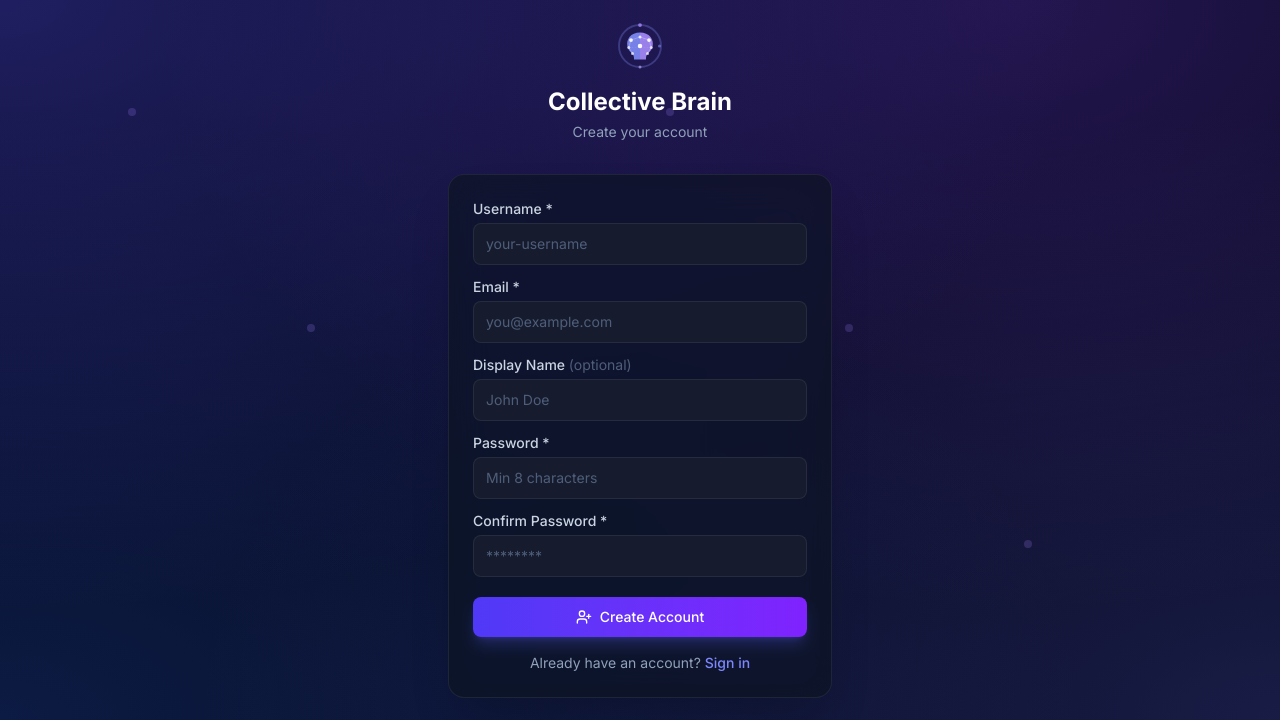
Test case: RegisterPage › shows password mismatch error
Type "newuser" into the field with placeholder "your-username" at point(640, 244), box [473,223,807,265]
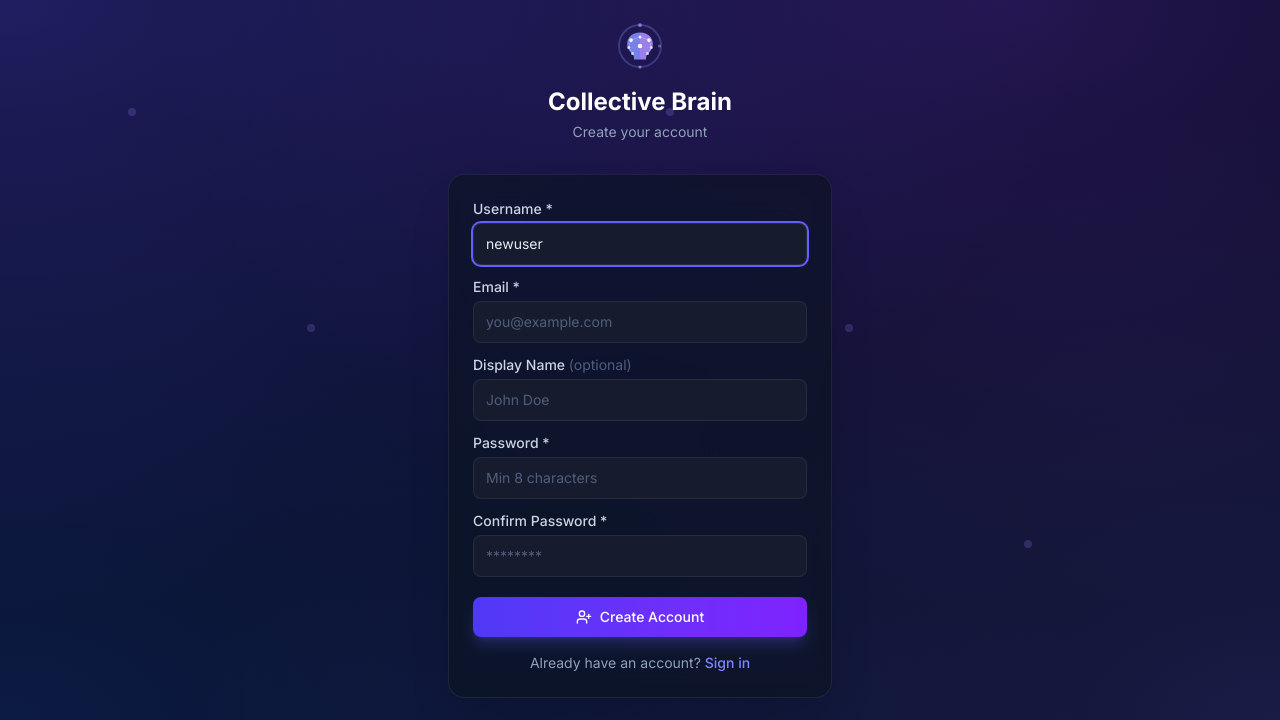
Type "new@test.com" into the field with placeholder "you@example.com" at point(640, 322), box [473,301,807,343]
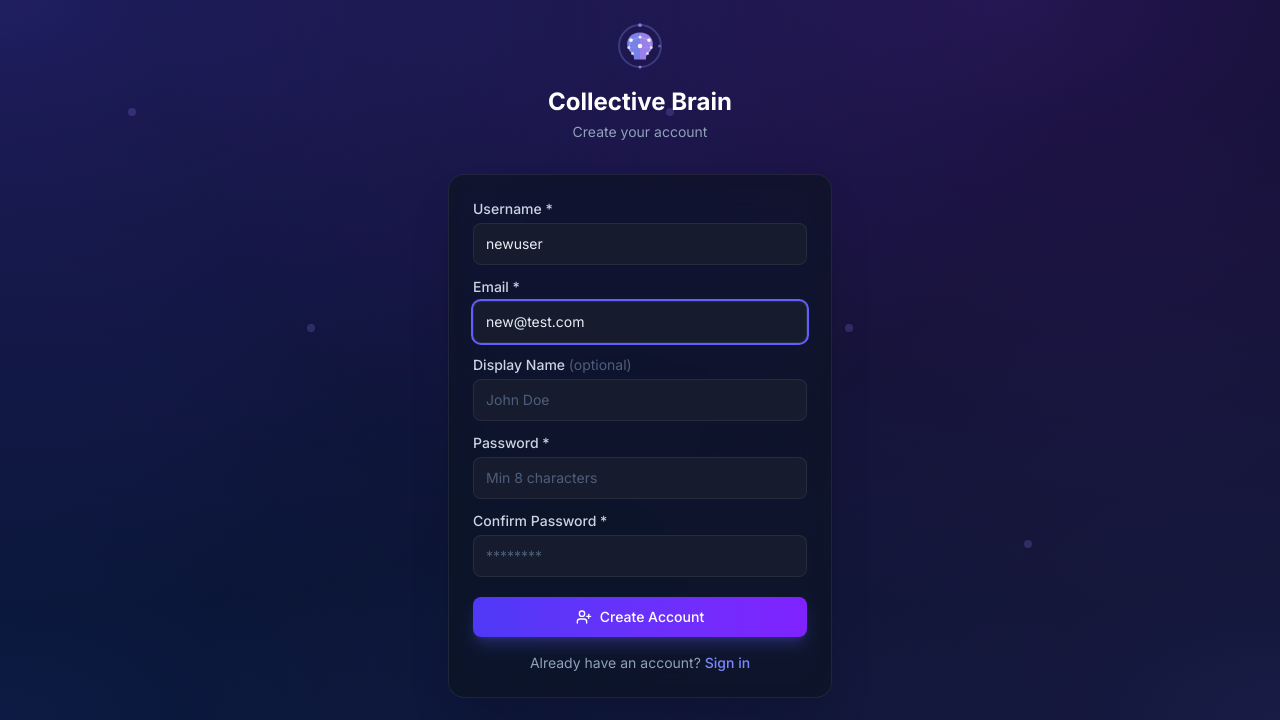
Type "password123" into the password field with placeholder "Min 8 characters" at point(640, 478), box [473,457,807,499]
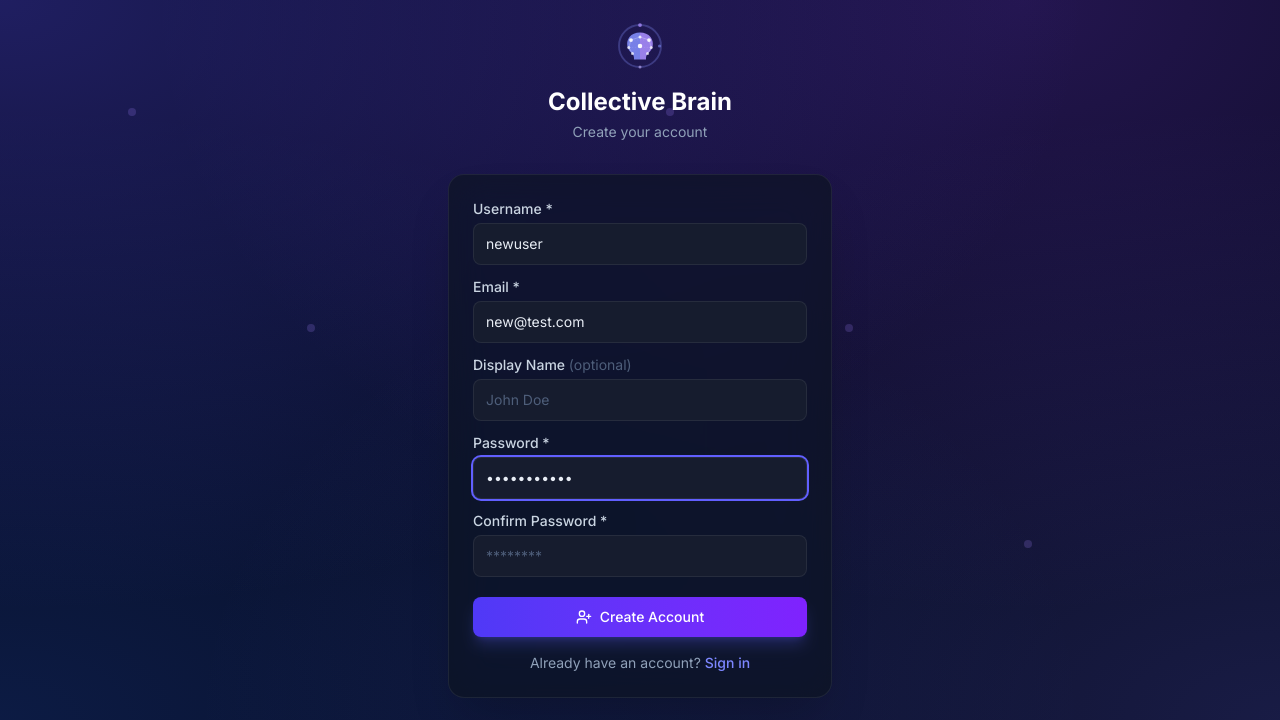
Type "different123" into the password field with placeholder "********" at point(640, 556), box [473,535,807,577]
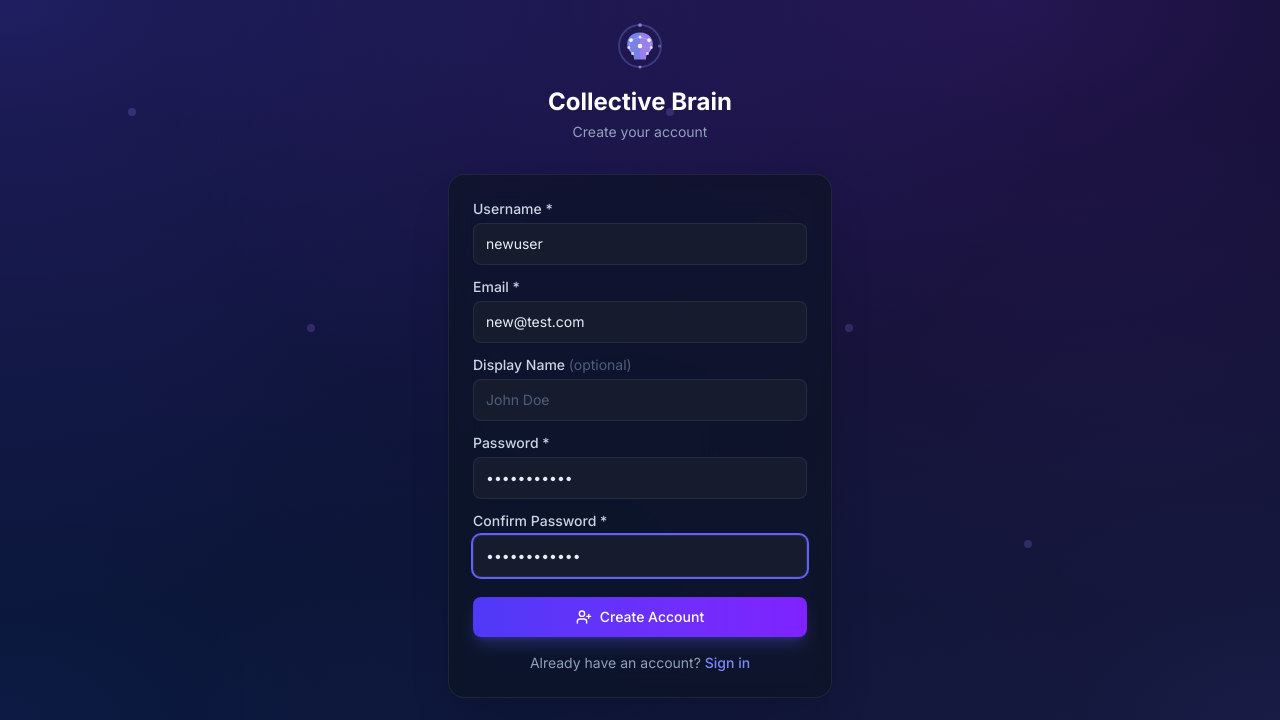
Click the button "Create Account" at point(640, 617), box [473,597,807,637]
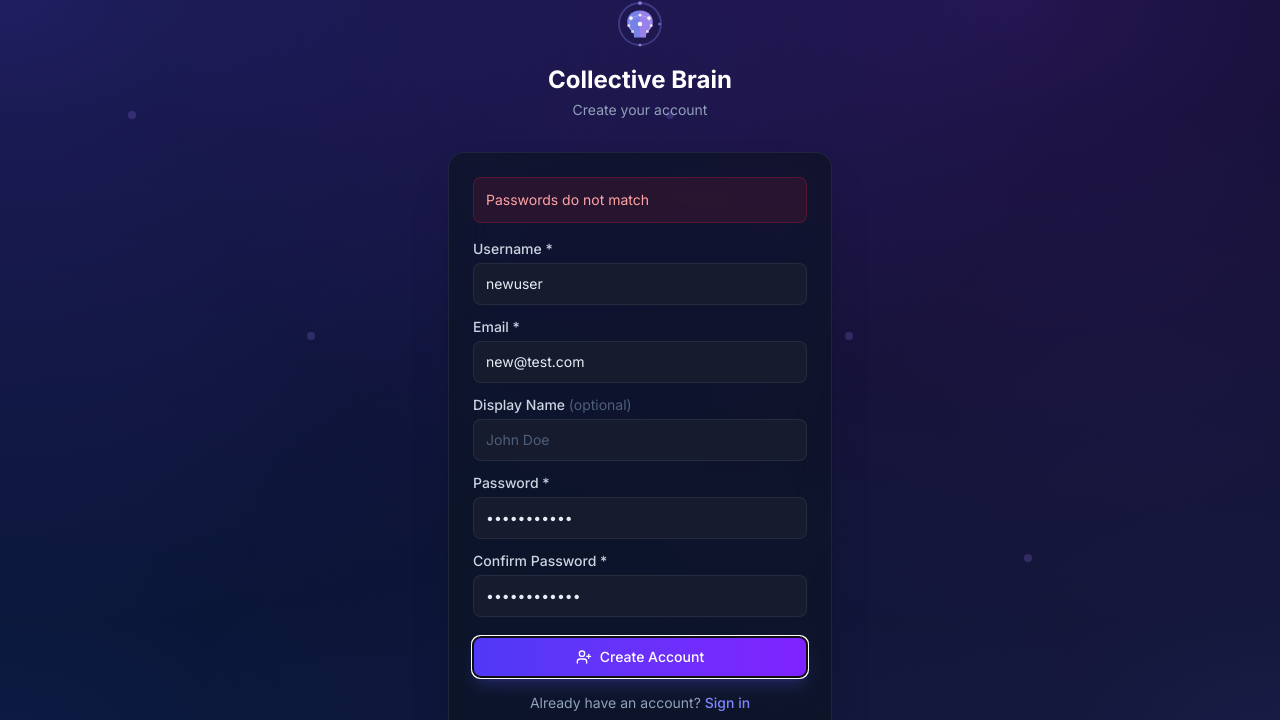
Result: the text "Passwords do not match" is shown at [473,177,807,223]
